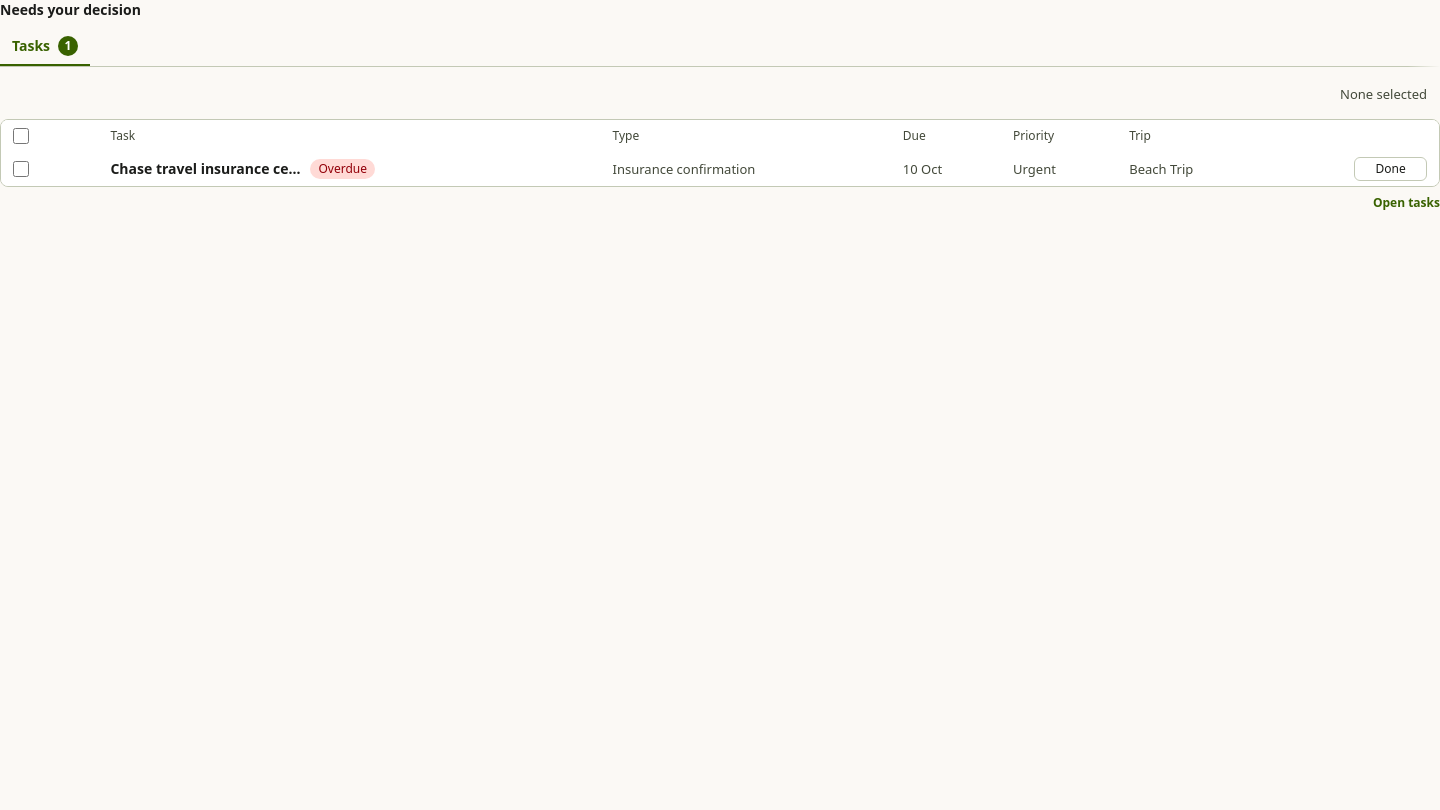
it: Tasks due group — Mark all done (decision-bulk) › refreshes the caches a Done would, when a row gets no answer and its re-read runs (review #266 fix round)
The width and height of the screenshot is (1440, 810).
Click the checkbox named "Select all shown tasks due". click: (21, 136)
box: [13,128,29,144]
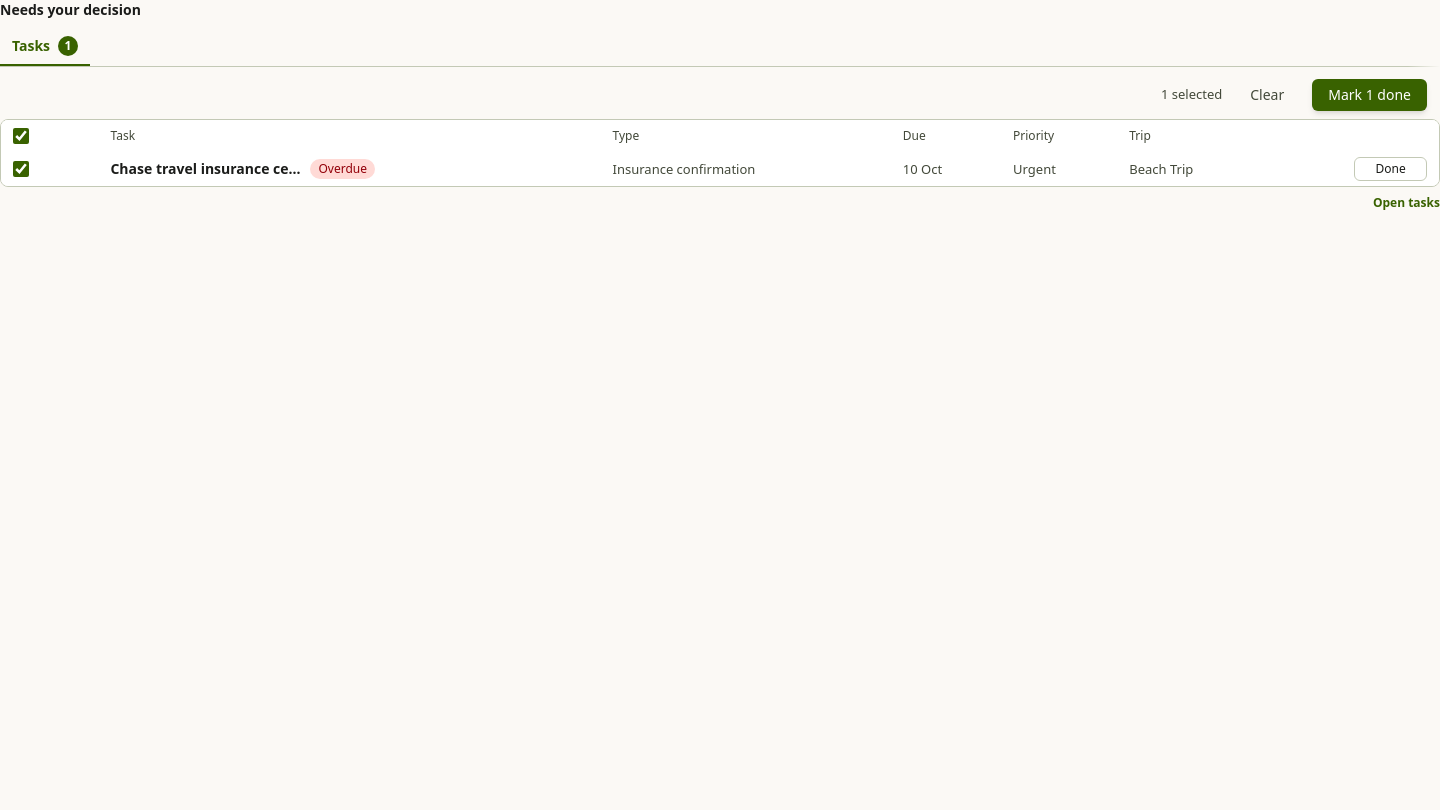
Click the button with aria-label "Mark 1 selected task done". click: (1370, 95)
box: [1312,79,1427,111]
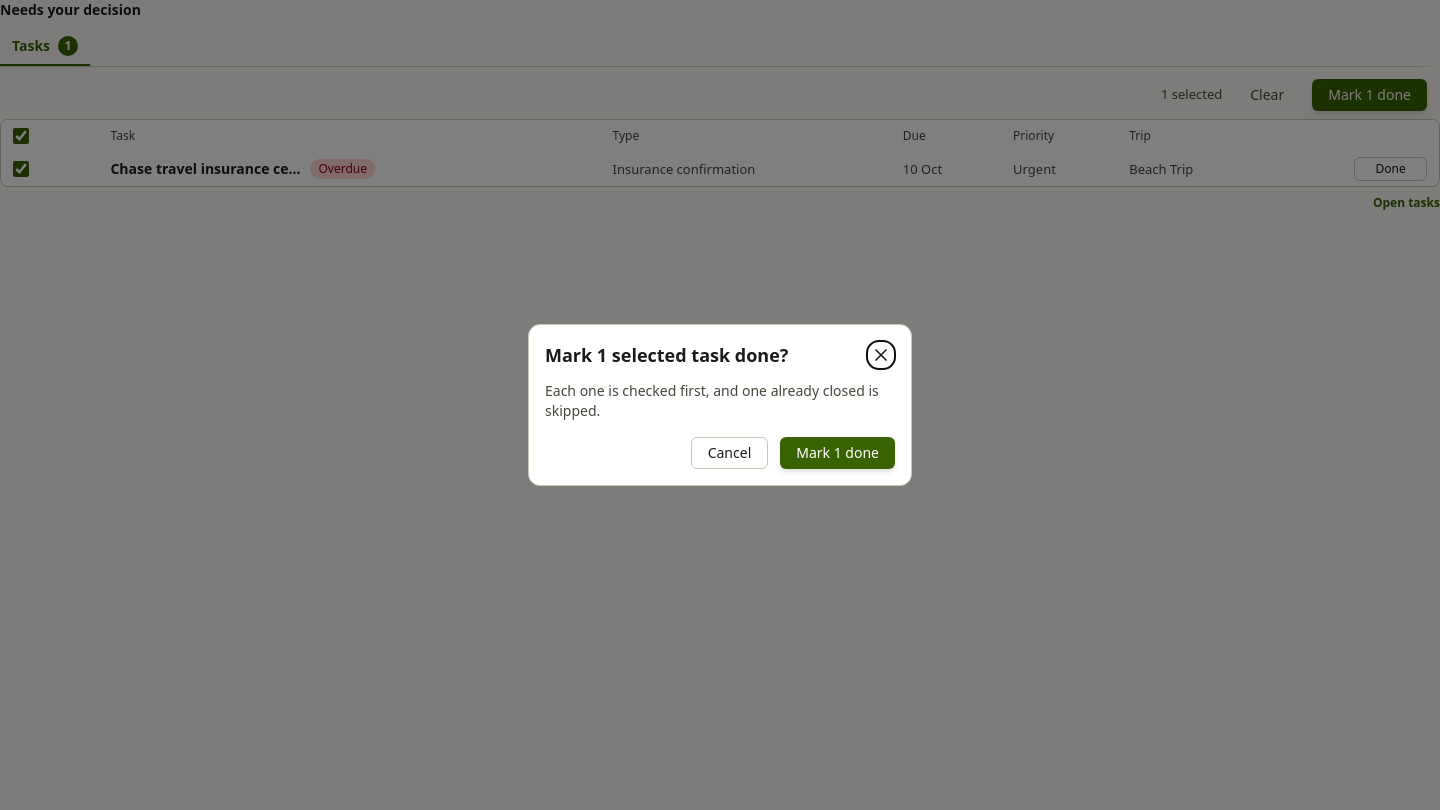
Click the button "Mark 1 done". click: (838, 453)
box: [780,437,895,469]
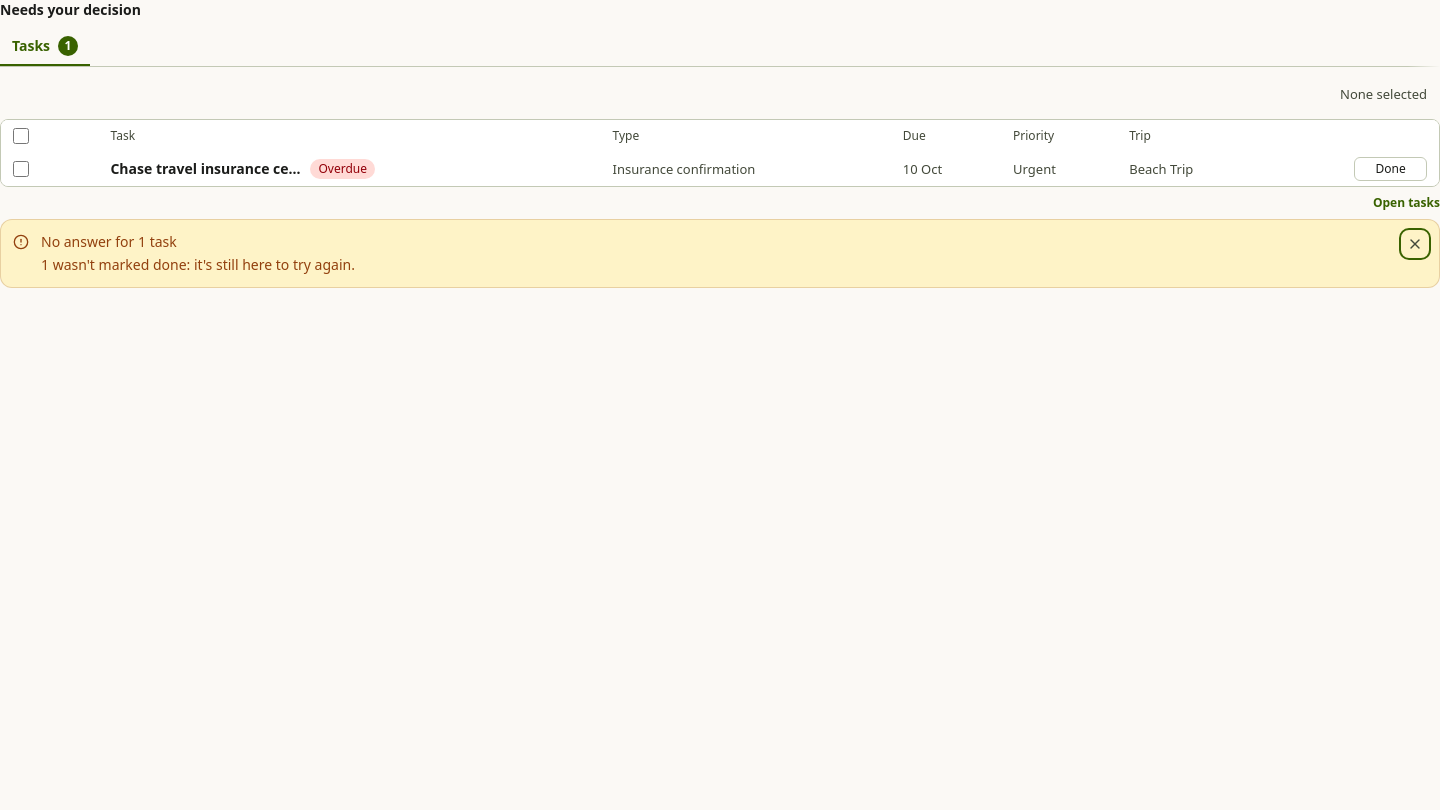
Expected: the text "No answer for 1 task" is shown, [41,232,177,251]
